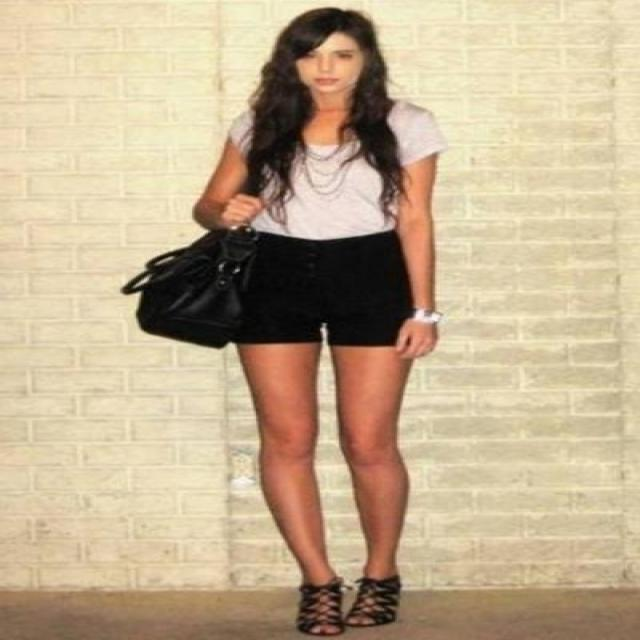bag: (107, 226, 274, 347)
shirt: (227, 92, 451, 239)
shoe: (298, 576, 402, 636)
shorts: (238, 228, 414, 350)
